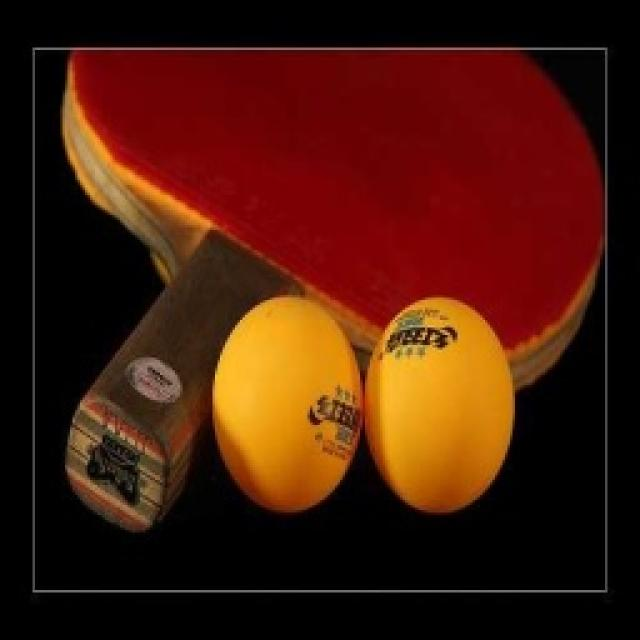orange: (362, 298, 518, 518), (210, 295, 362, 518)
